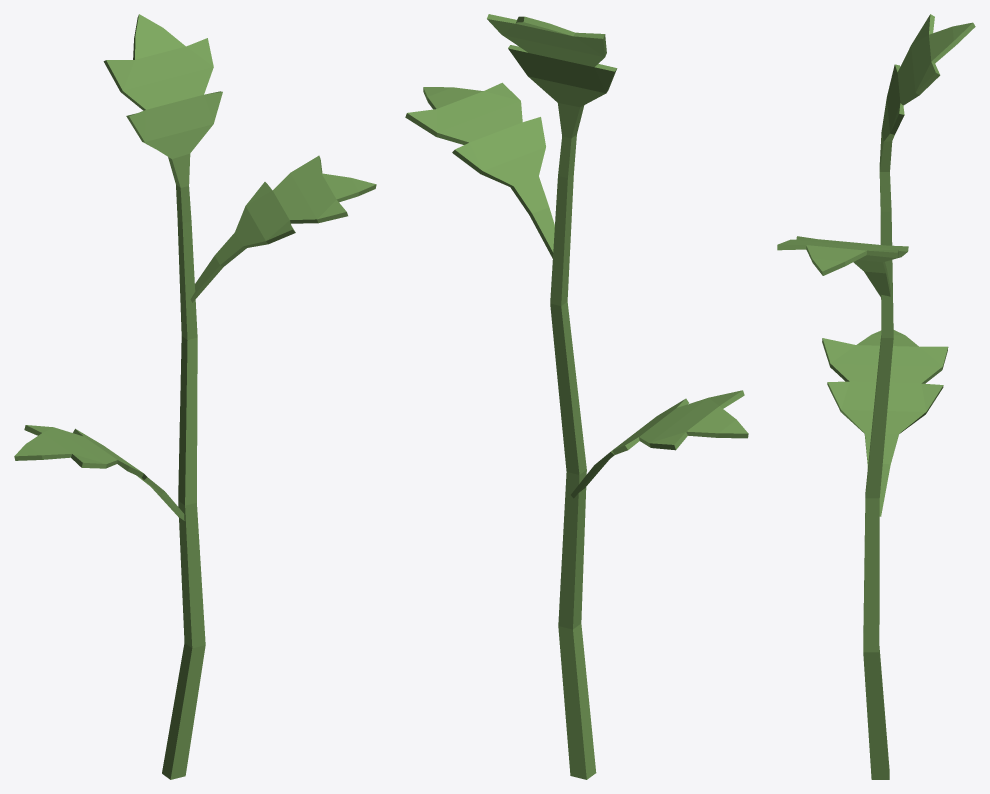
The model's file is Tomato_2.glb.
3 renders of one model, left to right at view 1: azimuth 30°, elevation 25°; view 2: azimuth 150°, elevation 25°; view 3: azimuth 270°, elevation 25°, orthographic. The views are drawn at different scales.
Visible parts, largest first — view 1: Tomato_2_Cylinder.002; view 2: Tomato_2_Cylinder.002; view 3: Tomato_2_Cylinder.002.
Boxes of the visible parts, <box> form: Tomato_2_Cylinder.002: <box>14,14,376,779</box>; Tomato_2_Cylinder.002: <box>405,14,748,779</box>; Tomato_2_Cylinder.002: <box>777,14,975,779</box>.
Bounding box in the file's own units: 0.3768 × 0.7908 × 0.1874.
